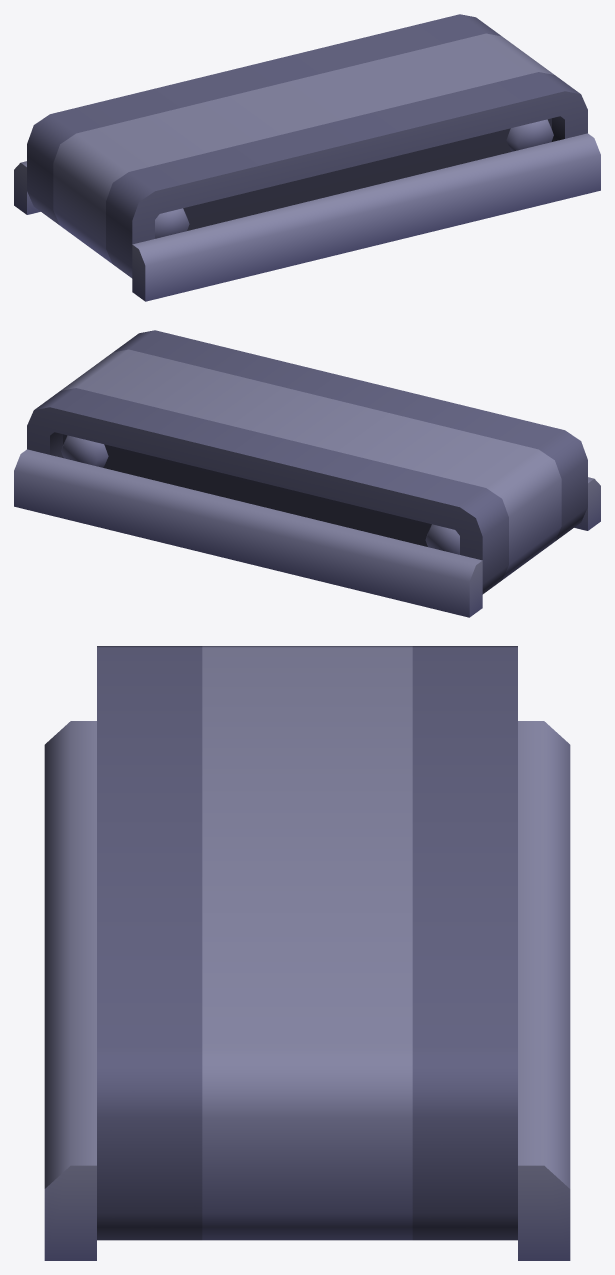
File: conveyor-long-stripe-sides.glb
The picture shows the model from 3 angles, top to bottom: view 1: azimuth 30°, elevation 25°; view 2: azimuth 150°, elevation 25°; view 3: azimuth 270°, elevation 25°; orthographic projection. The views are drawn at different scales.
Visible parts, largest first — view 1: conveyor-long-stripe-sides; view 2: conveyor-long-stripe-sides; view 3: conveyor-long-stripe-sides.
Boxes of the visible parts, box(x1,y1,x2,y2) form: conveyor-long-stripe-sides: box(14, 14, 600, 301); conveyor-long-stripe-sides: box(14, 330, 600, 617); conveyor-long-stripe-sides: box(44, 646, 570, 1260).
Size of the model in its own units: 2 by 0.4 by 1.
